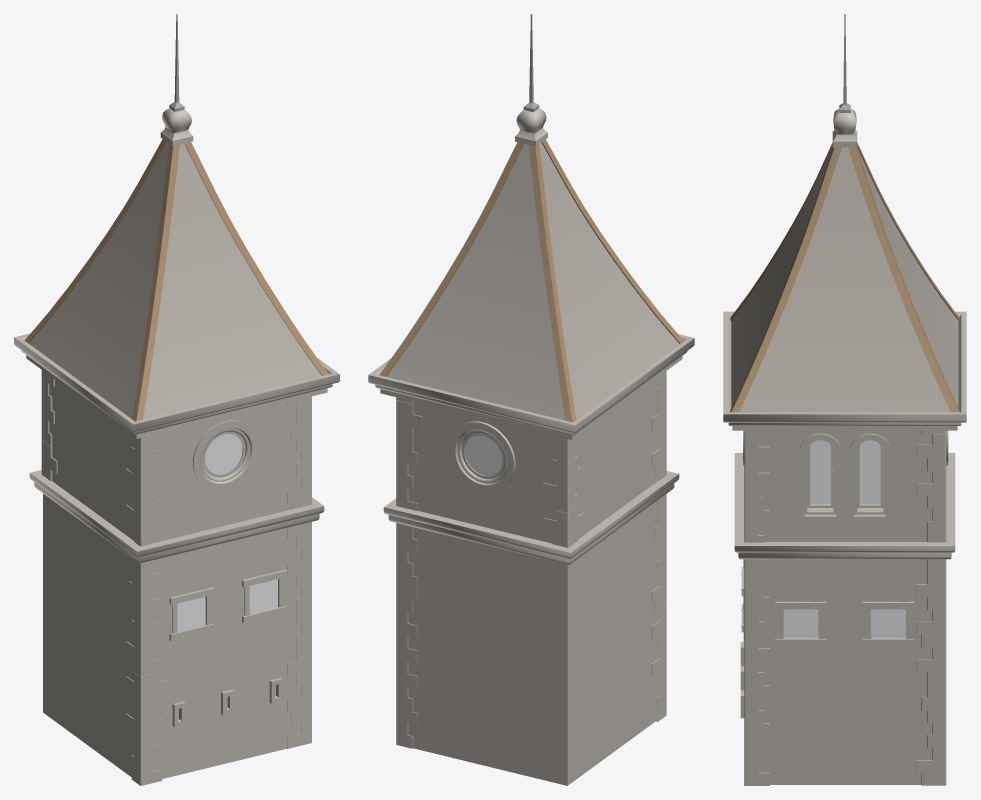
Rendered from kb3d_tower_a.glb.
3 renders of one model, left to right at view 1: azimuth 30°, elevation 25°; view 2: azimuth 150°, elevation 25°; view 3: azimuth 270°, elevation 25°, orthographic. The views are drawn at different scales.
Parts seen in each view (by area): view 1: EXPORT_kb3d_tower_a; view 2: EXPORT_kb3d_tower_a; view 3: EXPORT_kb3d_tower_a.
Boxes of the visible parts, bbox=[...] form: EXPORT_kb3d_tower_a: bbox=[14, 14, 339, 785]; EXPORT_kb3d_tower_a: bbox=[368, 14, 694, 785]; EXPORT_kb3d_tower_a: bbox=[723, 14, 966, 785].
Bounding box in the file's own units: 6.27 × 20.73 × 6.27.
